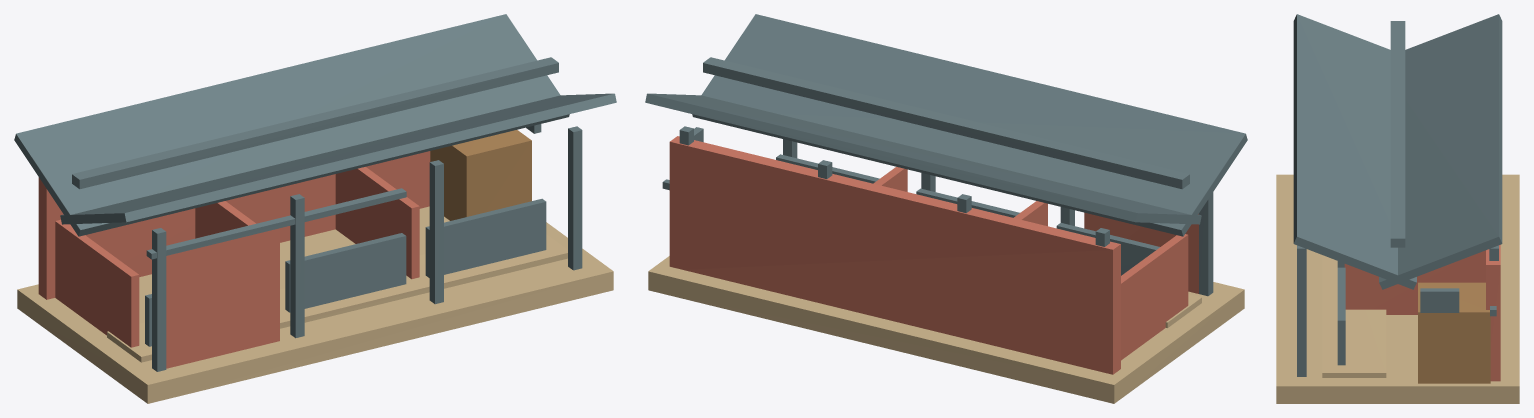
The model's file is Stable.glb.
3 views of the same model, side by side, from view 1: azimuth 30°, elevation 25°; view 2: azimuth 150°, elevation 25°; view 3: azimuth 270°, elevation 25° (orthographic). The views are drawn at different scales.
Visible parts, largest first — view 1: wind-pump-static-stable-galvanized-roof, wind-pump-static-stable-weathered-timber, wind-pump-static-stable-dark-iron, wind-pump-static-stable-stone-foundation, wind-pump-static-stable-tack-service; view 2: wind-pump-static-stable-weathered-timber, wind-pump-static-stable-galvanized-roof, wind-pump-static-stable-stone-foundation, wind-pump-static-stable-dark-iron; view 3: wind-pump-static-stable-galvanized-roof, wind-pump-static-stable-stone-foundation, wind-pump-static-stable-dark-iron, wind-pump-static-stable-tack-service, wind-pump-static-stable-weathered-timber.
Boxes of the visible parts, x1=… form: wind-pump-static-stable-galvanized-roof: x1=14, y1=14, x2=616, y2=236; wind-pump-static-stable-weathered-timber: x1=38, y1=151, x2=430, y2=368; wind-pump-static-stable-dark-iron: x1=72, y1=57, x2=582, y2=371; wind-pump-static-stable-stone-foundation: x1=17, y1=206, x2=613, y2=403; wind-pump-static-stable-tack-service: x1=430, y1=130, x2=531, y2=220; wind-pump-static-stable-weathered-timber: x1=669, y1=136, x2=1198, y2=374; wind-pump-static-stable-galvanized-roof: x1=645, y1=14, x2=1247, y2=236; wind-pump-static-stable-stone-foundation: x1=648, y1=256, x2=1244, y2=403; wind-pump-static-stable-dark-iron: x1=662, y1=57, x2=1213, y2=296; wind-pump-static-stable-galvanized-roof: x1=1293, y1=14, x2=1502, y2=289; wind-pump-static-stable-stone-foundation: x1=1276, y1=174, x2=1519, y2=403; wind-pump-static-stable-dark-iron: x1=1297, y1=21, x2=1498, y2=376; wind-pump-static-stable-tack-service: x1=1418, y1=282, x2=1490, y2=383; wind-pump-static-stable-weathered-timber: x1=1344, y1=245, x2=1500, y2=381.
Bounding box in the file's own units: 5.42 × 1.96 × 2.5.
